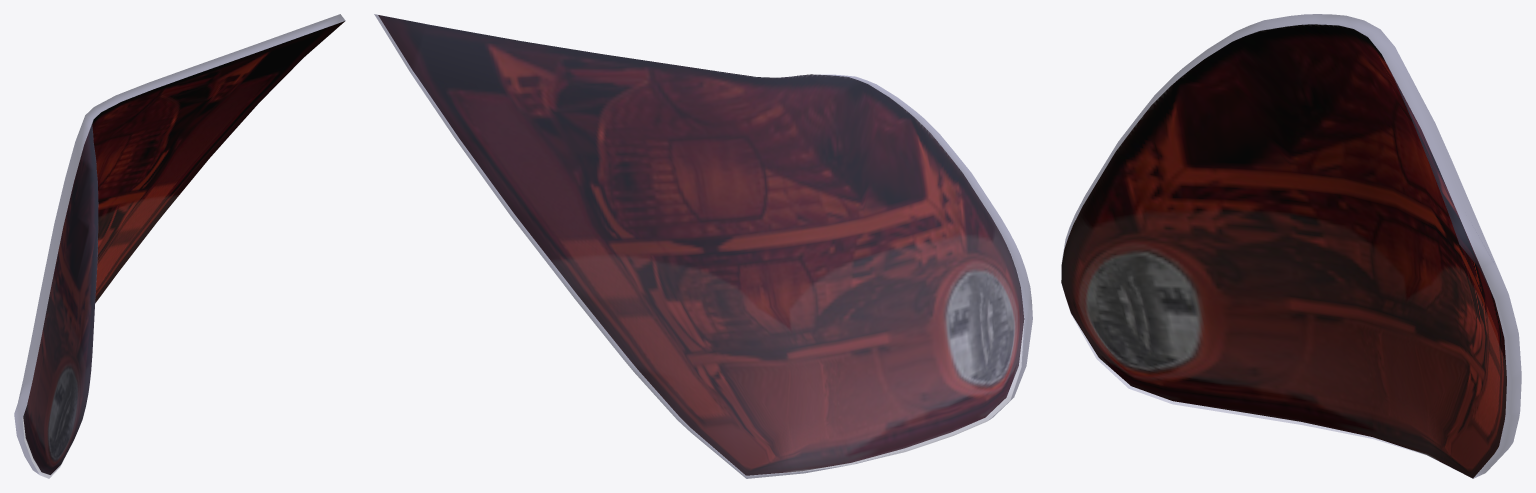
3 views of the same model, side by side, from view 1: azimuth 30°, elevation 25°; view 2: azimuth 150°, elevation 25°; view 3: azimuth 270°, elevation 25° (orthographic). The views are drawn at different scales.
Parts seen in each view (by area): view 1: Z166_541C_L_1_N_Z166_541C_L, Z166_541C_L_Z166_541C_L_2_DTaSI; view 2: Z166_541C_L_Z166_541C_L_2_DTaSI, Z166_541C_L_1_N_Z166_541C_L; view 3: Z166_541C_L_1_N_Z166_541C_L, Z166_541C_L_Z166_541C_L_2_DTaSI.
Boxes of the visible parts, x1,y1,x2,y2 form: Z166_541C_L_1_N_Z166_541C_L: (23, 21, 344, 474); Z166_541C_L_Z166_541C_L_2_DTaSI: (14, 14, 345, 478); Z166_541C_L_Z166_541C_L_2_DTaSI: (374, 14, 1032, 478); Z166_541C_L_1_N_Z166_541C_L: (378, 15, 1024, 475); Z166_541C_L_1_N_Z166_541C_L: (1061, 24, 1506, 478); Z166_541C_L_Z166_541C_L_2_DTaSI: (1062, 14, 1521, 478).
Size of the model in its own units: 43.55 by 30.58 by 26.76.
